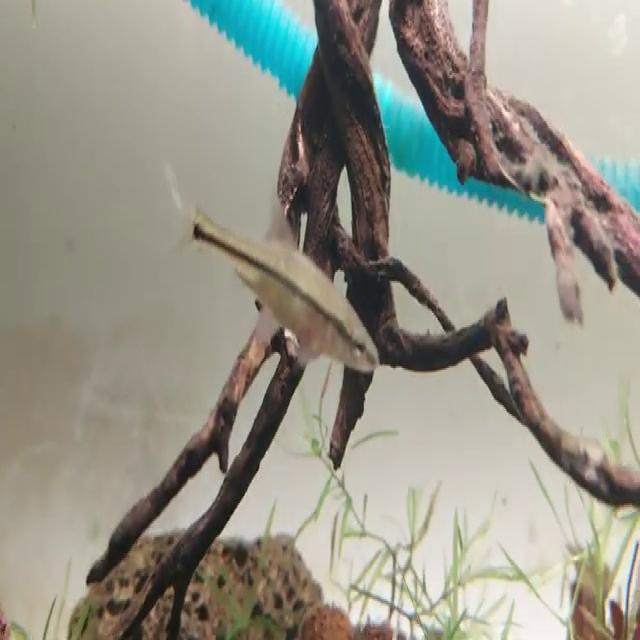Cakil Baligi: (168, 165, 380, 374)
